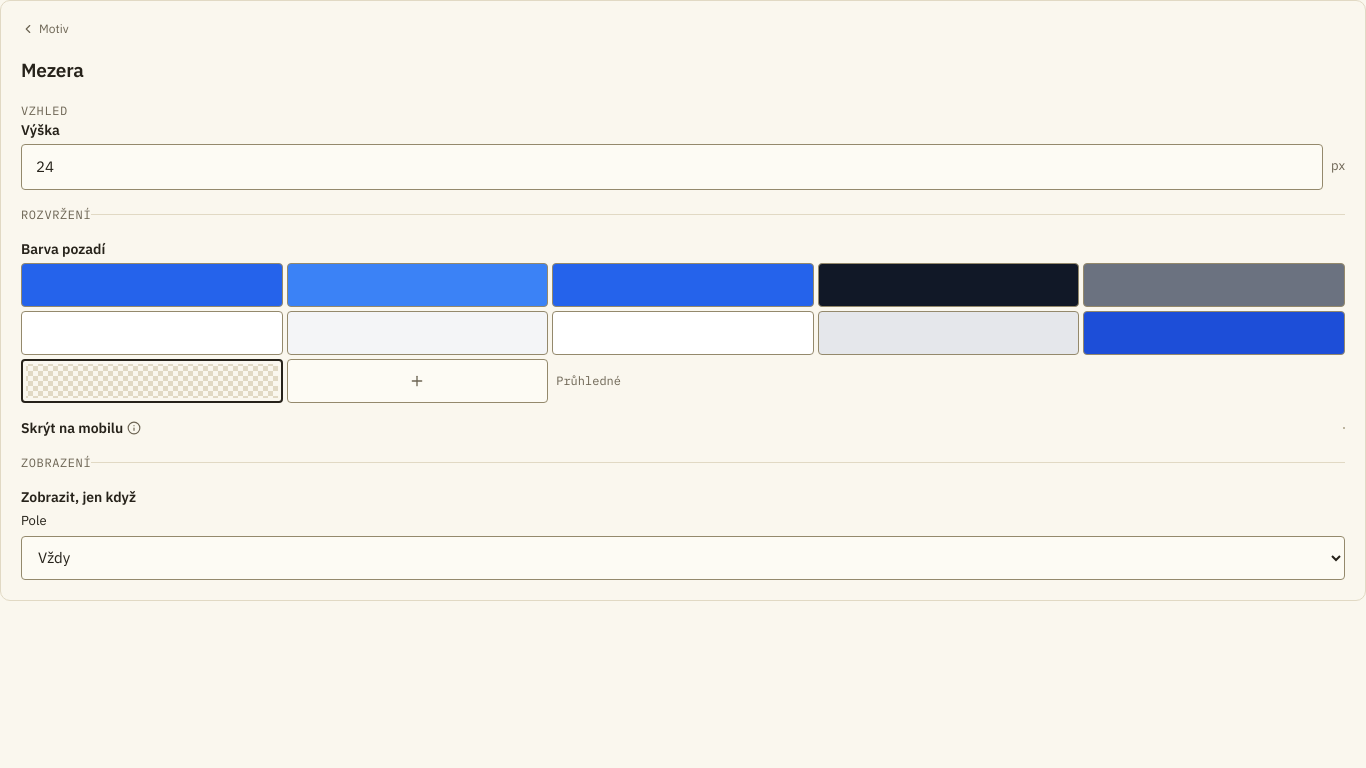
PropertiesPanel › z vlastností bloku vede tlačítko zpátky na Motiv
Click the button with test id "back-to-theme".
click(45, 29)  # box x1=17 y1=17 x2=73 y2=40
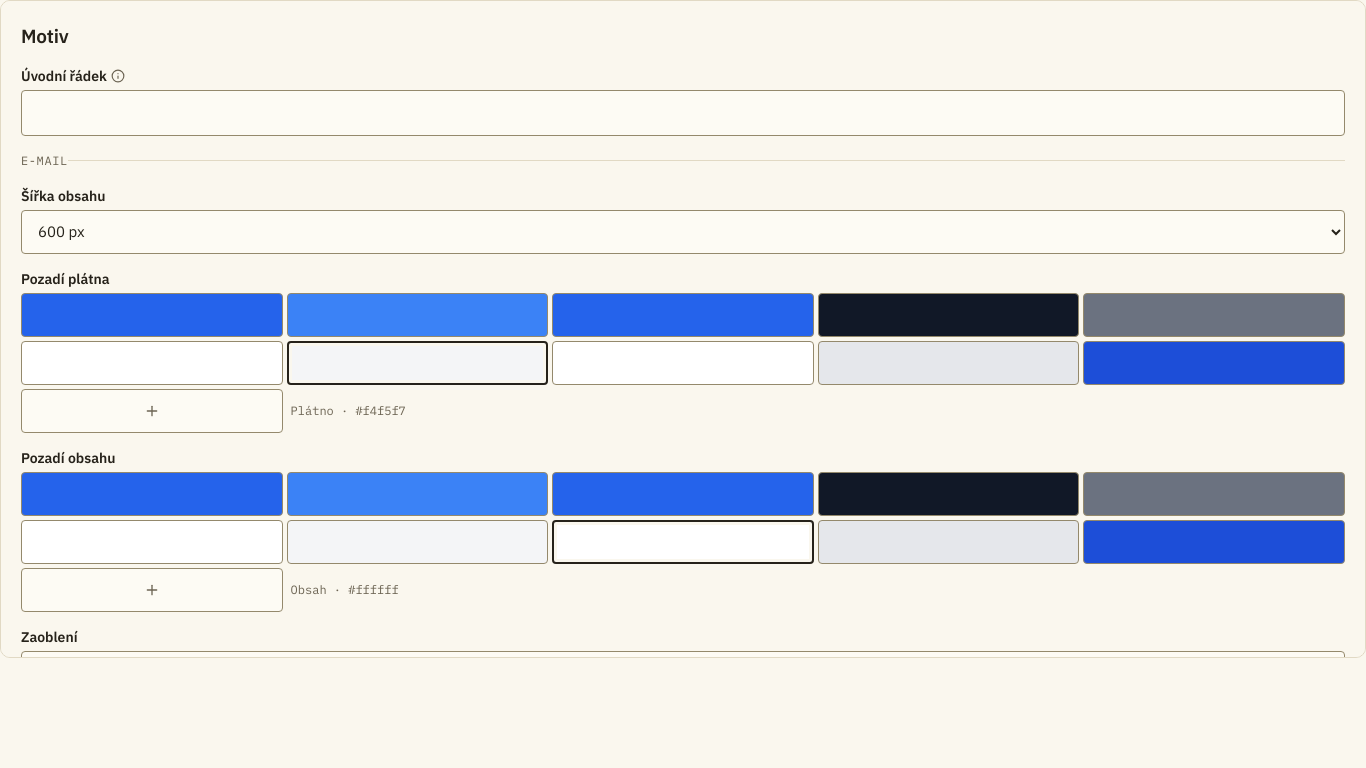
Expected: the heading "Motiv" is shown, x1=21 y1=24 x2=68 y2=48
Expected: the dropdown labelled "Šířka obsahu" is shown, x1=21 y1=210 x2=1345 y2=254
